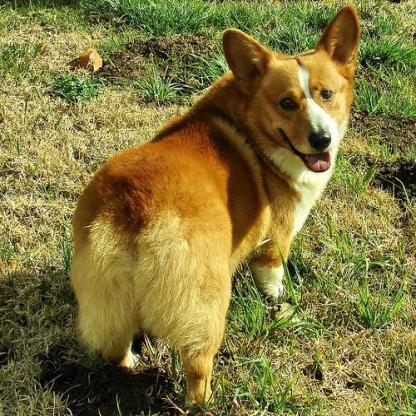Pembroke: (67, 2, 361, 410)
